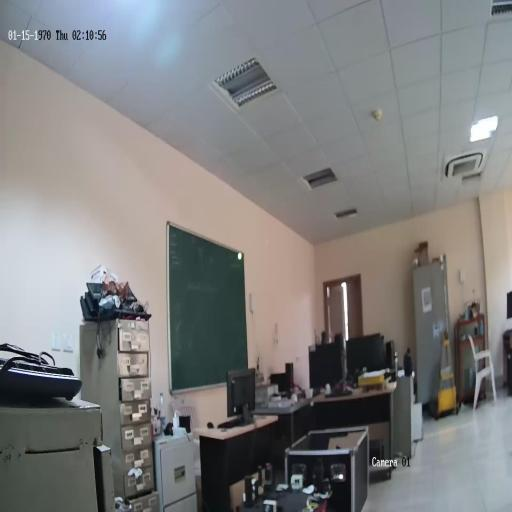laser: (237, 250, 242, 262)
